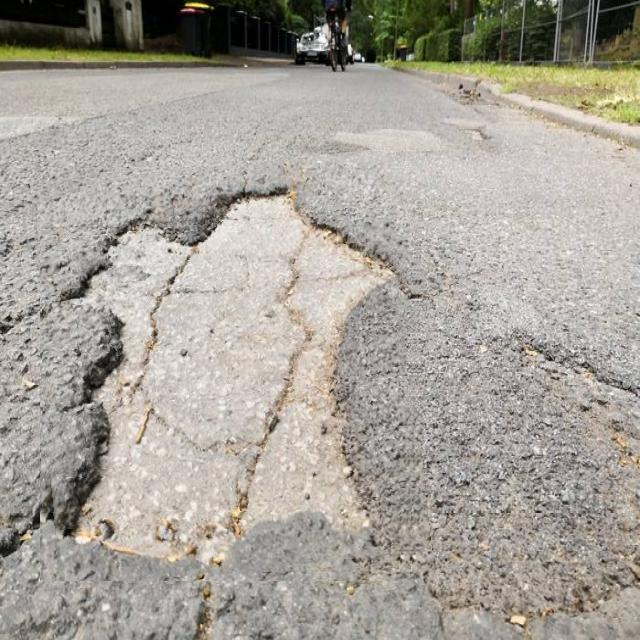Pothole: (40, 157, 422, 581)
